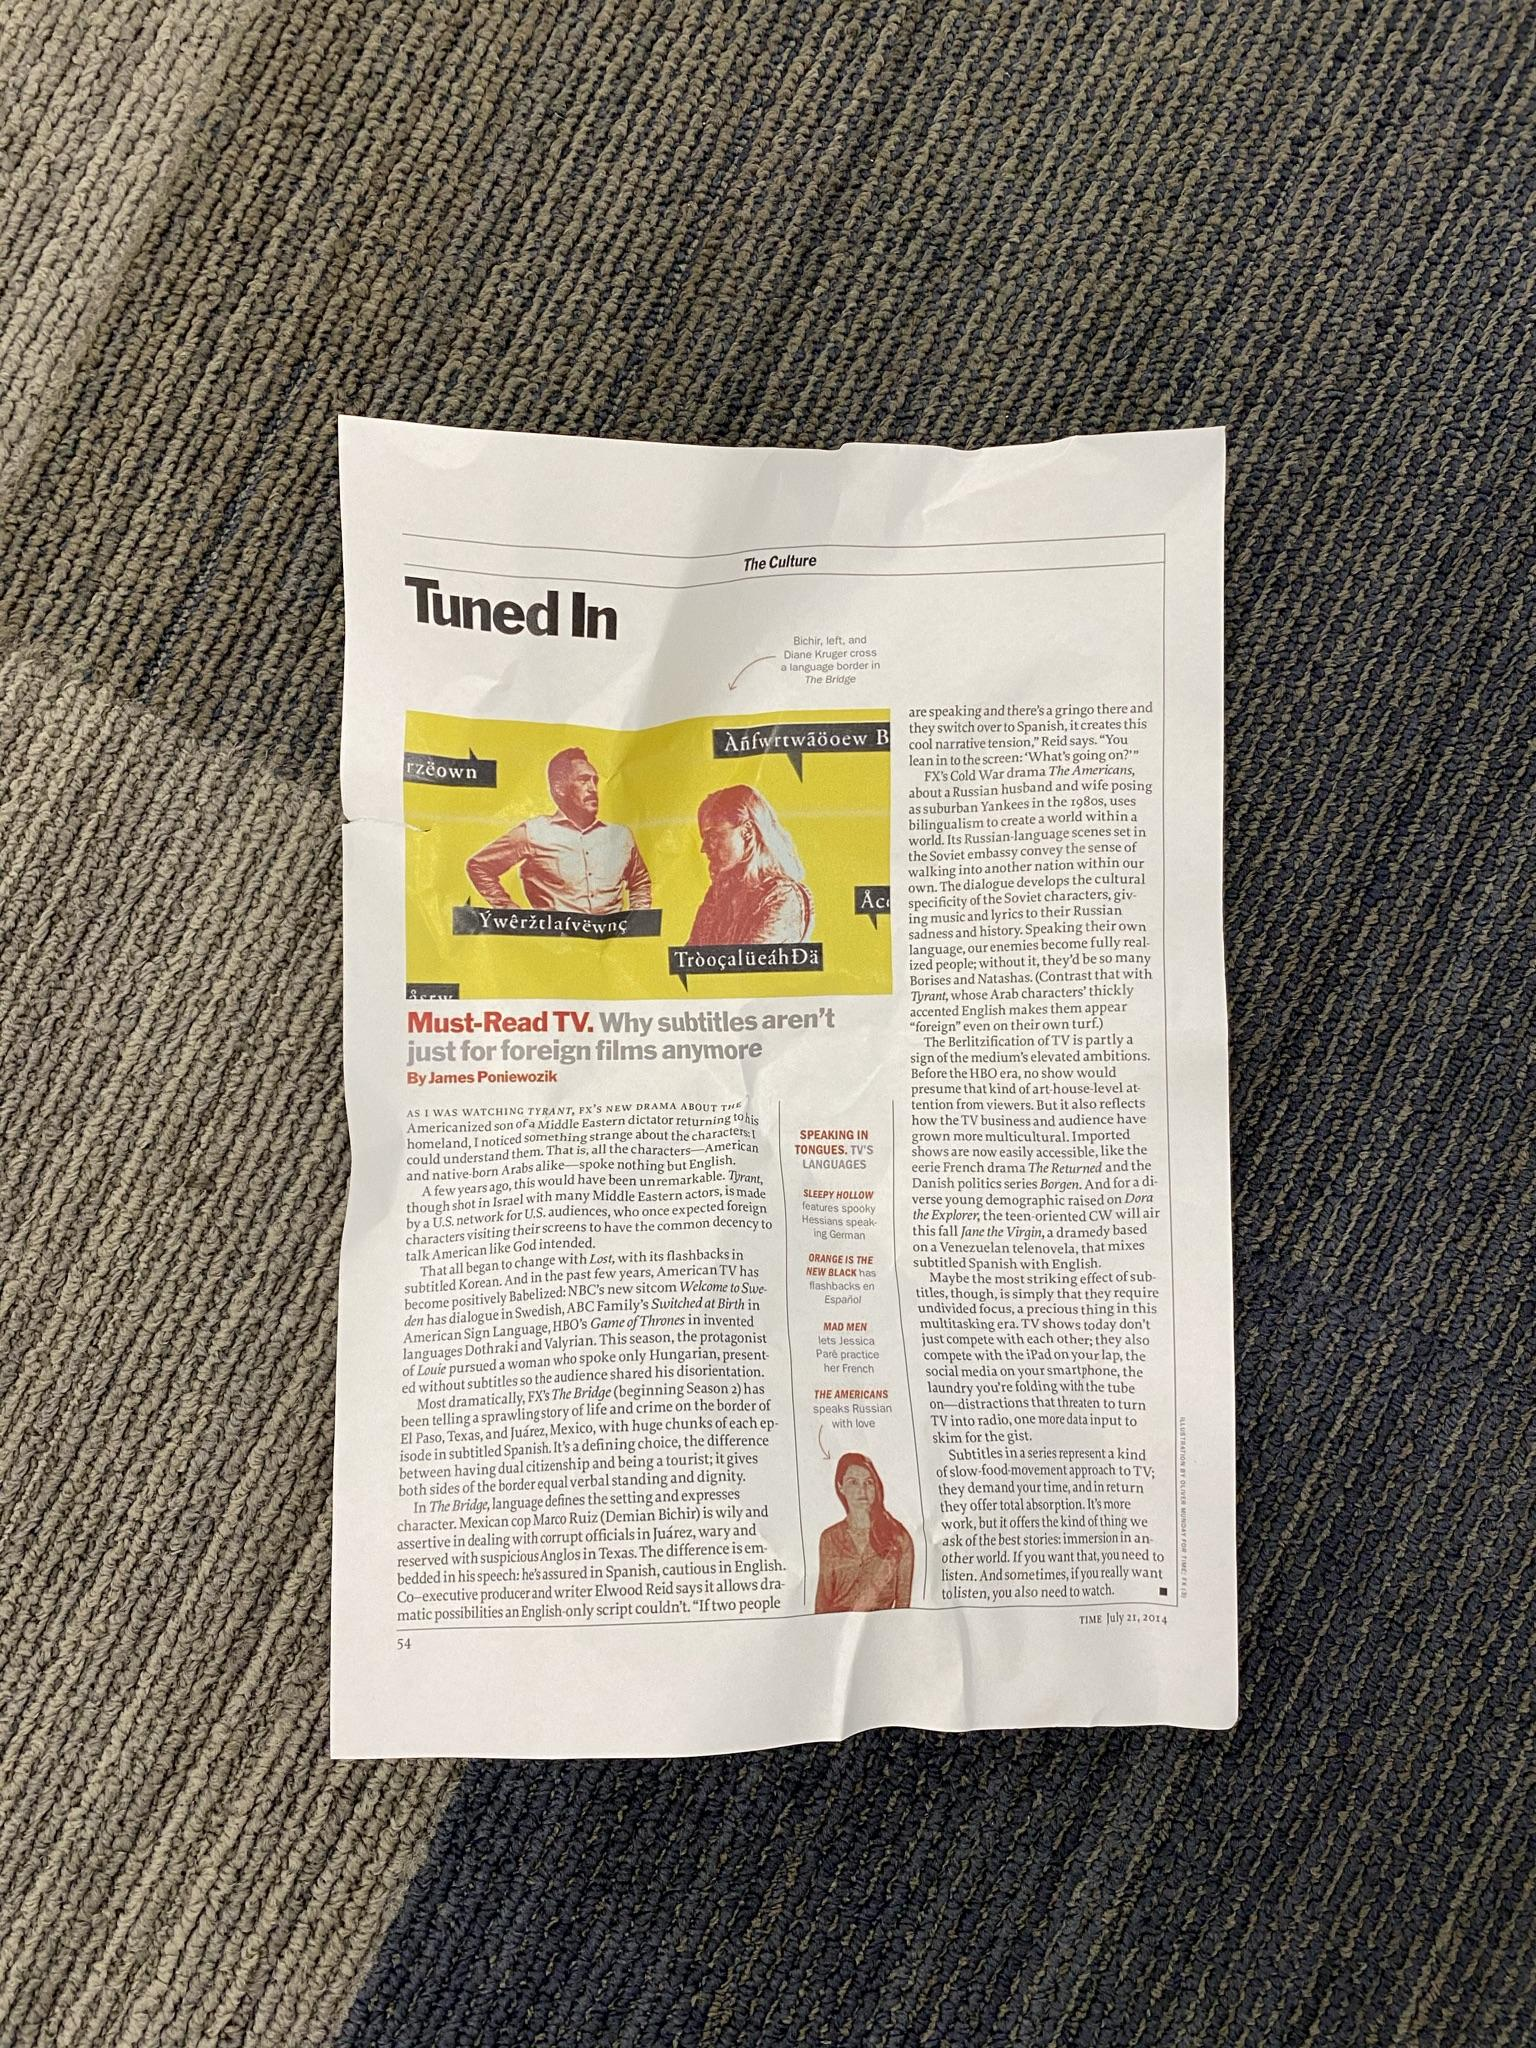paper: (97, 256, 1417, 1998)
